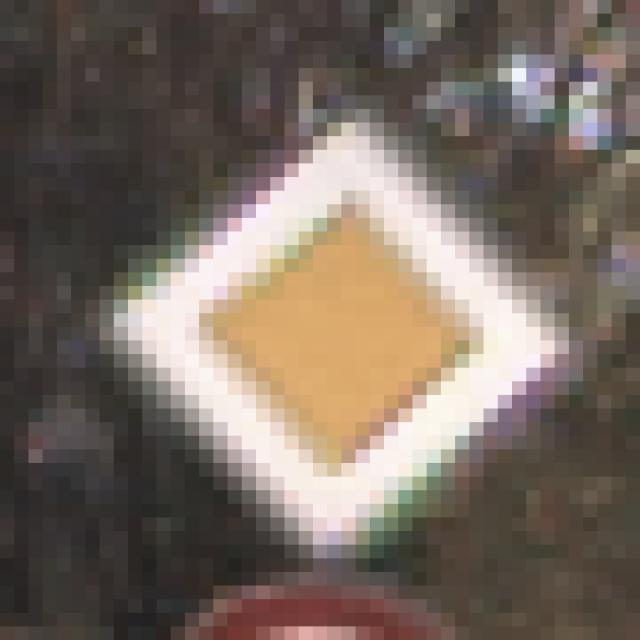Main Road: (86, 83, 556, 559)
